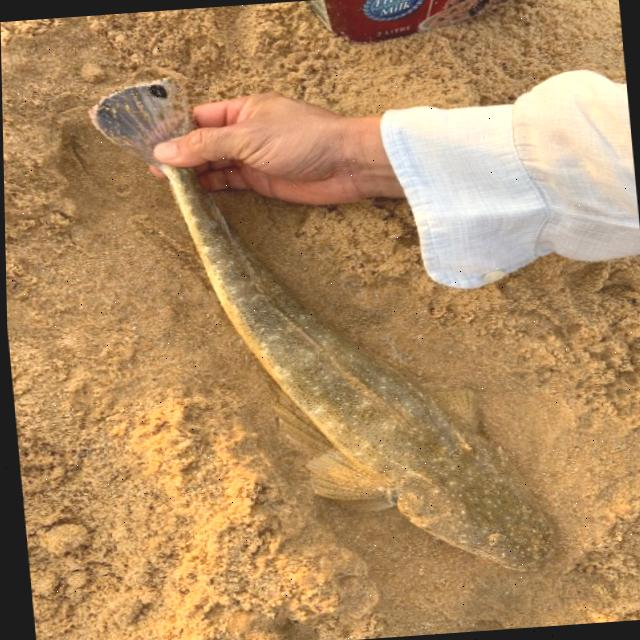Flathead: (58, 43, 574, 612)
